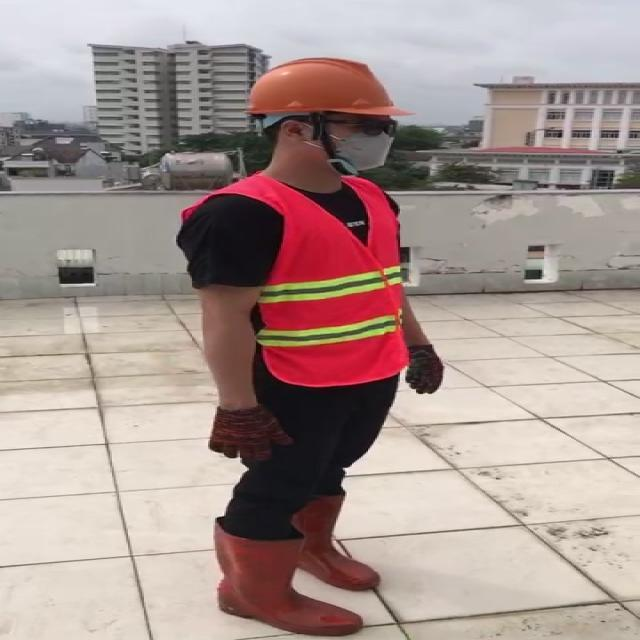boots: (210, 521, 361, 634), (293, 493, 379, 589)
gloves: (208, 407, 292, 460), (407, 348, 445, 395)
helmet: (237, 57, 420, 123)
vest: (250, 176, 406, 384)
